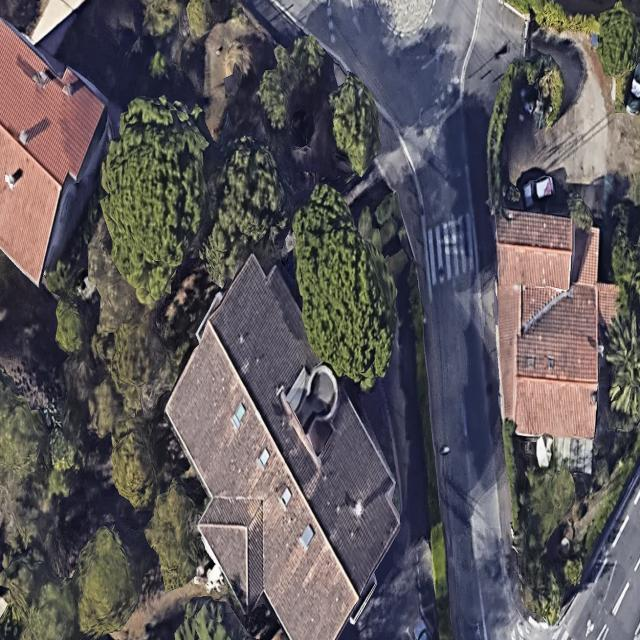maison: (91, 248, 453, 640), (493, 210, 621, 440), (0, 23, 108, 278)
